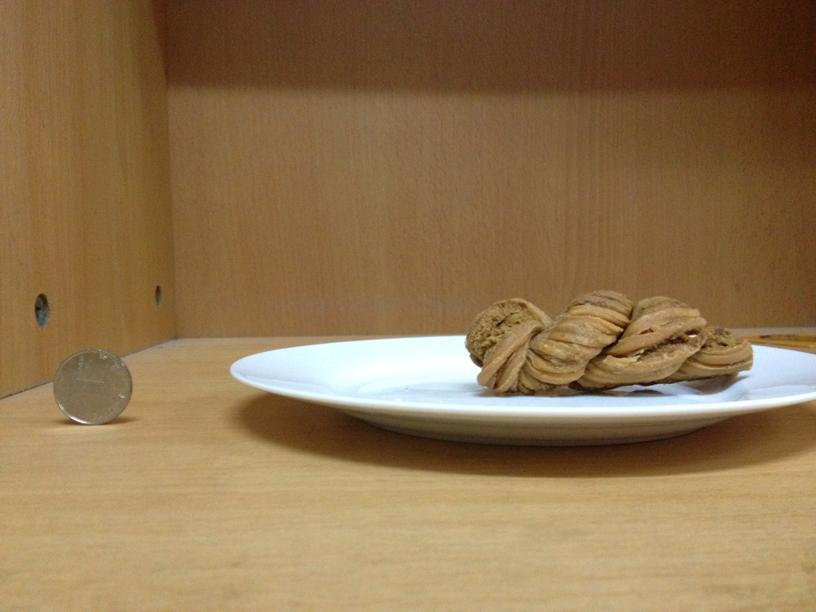coin: (48, 346, 132, 425)
fired_dough_twist: (460, 293, 750, 394)
